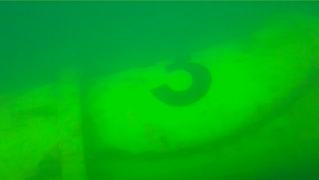3: (141, 53, 212, 107)
pipe: (1, 8, 318, 180)
